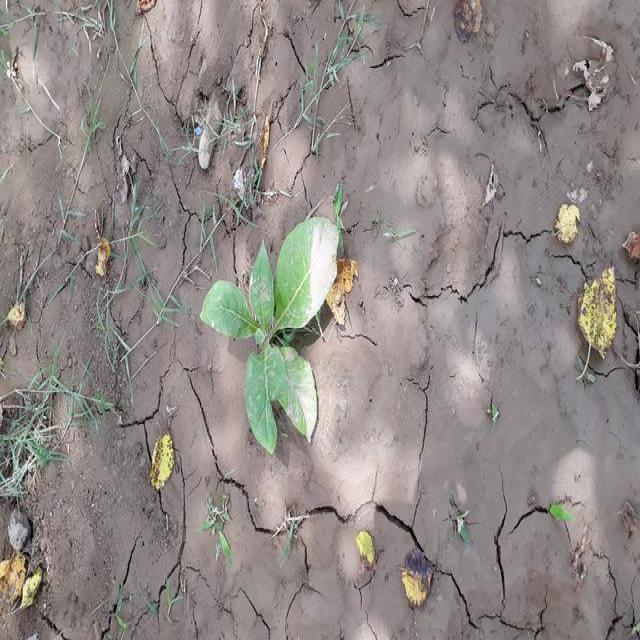crop: (198, 212, 351, 459)
